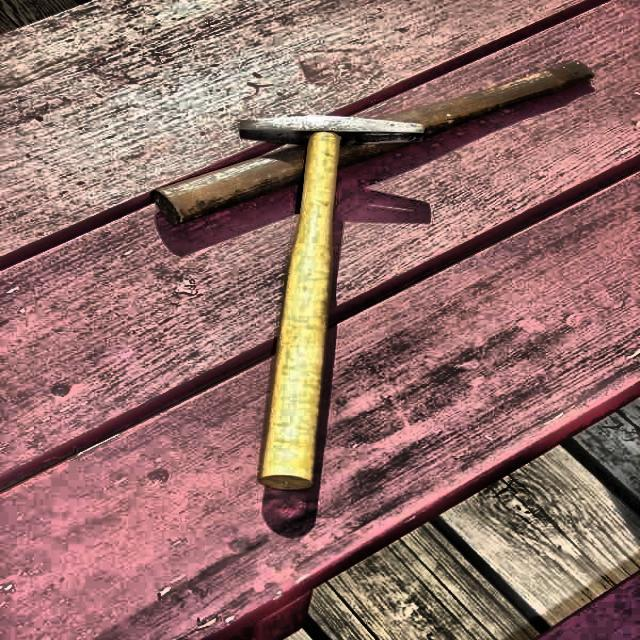hammer: (238, 115, 424, 493)
